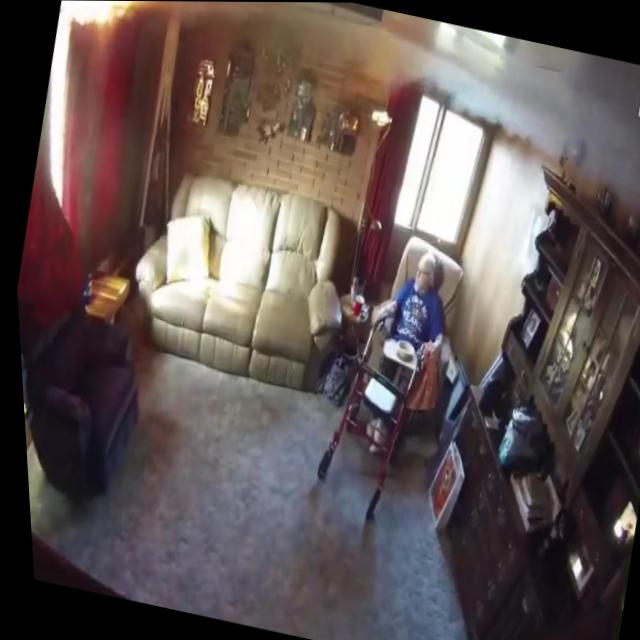fire: (57, 0, 174, 42)
